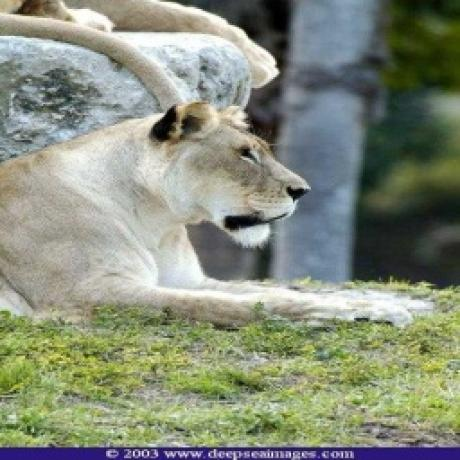Lion: (0, 94, 405, 332)
